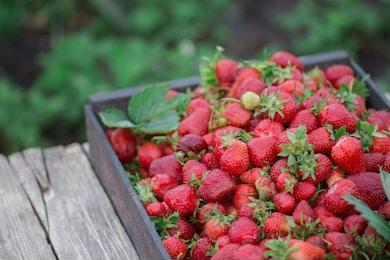Fresa: (328, 134, 372, 176), (313, 100, 362, 136), (197, 167, 236, 205), (217, 137, 253, 178), (259, 87, 298, 124), (162, 181, 202, 216), (295, 150, 335, 184), (273, 236, 328, 260), (176, 105, 212, 137), (291, 195, 318, 230)
